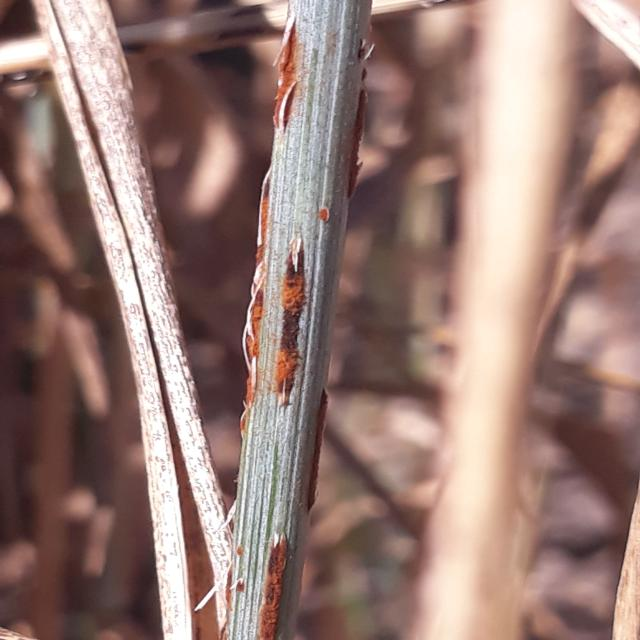black_stem_rust: (33, 0, 473, 640)
